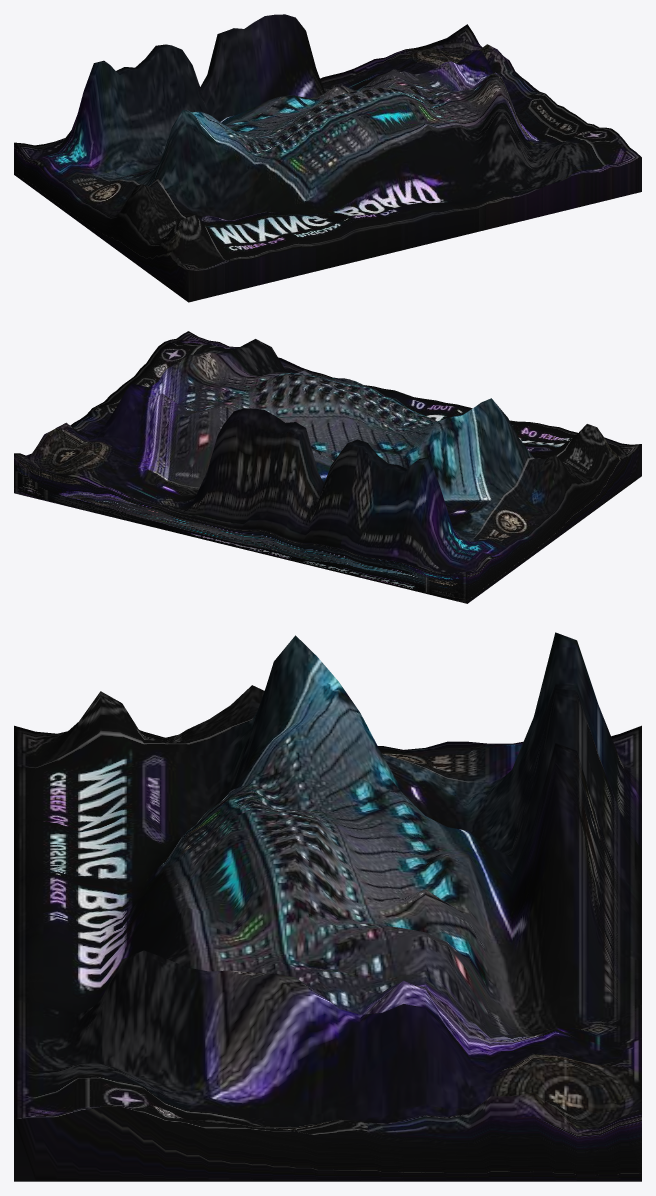
File: CAREER_04_Tool_07_Mixing_Board.glb
3 views of the same model, one above another, from view 1: azimuth 30°, elevation 25°; view 2: azimuth 150°, elevation 25°; view 3: azimuth 270°, elevation 25° (orthographic). The views are drawn at different scales.
Visible parts, largest first — view 1: CAREER_04_Tool_07_Mixing_Board; view 2: CAREER_04_Tool_07_Mixing_Board; view 3: CAREER_04_Tool_07_Mixing_Board.
Boxes of the visible parts, x1=… form: CAREER_04_Tool_07_Mixing_Board: x1=14, y1=14, x2=641, y2=302; CAREER_04_Tool_07_Mixing_Board: x1=14, y1=331, x2=641, y2=603; CAREER_04_Tool_07_Mixing_Board: x1=14, y1=632, x2=641, y2=1181.
Bounding box in the file's own units: 2 × 0.51 × 1.33.
1 material, 1 textured.
